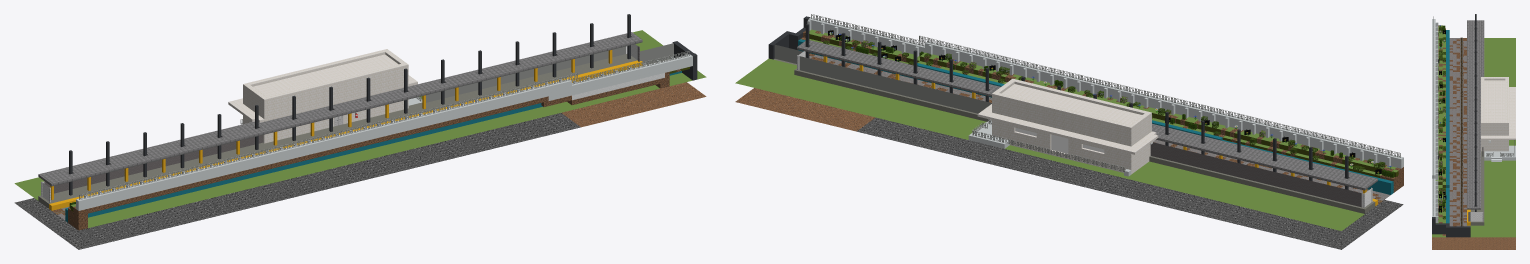
File: Itabira.fbx
3 views of the same model, side by side, from view 1: azimuth 30°, elevation 25°; view 2: azimuth 150°, elevation 25°; view 3: azimuth 270°, elevation 25° (orthographic). The views are drawn at different scales.
Visible parts, largest first — view 1: createdeco_block_palettes_chain_link_fence_industrial_iron_c, createdeco_block_palettes_chain_link_fence_industrial_iron_; view 2: createdeco_block_palettes_chain_link_fence_industrial_iron_c, createdeco_block_palettes_chain_link_fence_industrial_iron_; view 3: createdeco_block_palettes_chain_link_fence_industrial_iron_, createdeco_block_palettes_chain_link_fence_industrial_iron_c.
Part boxes in pixels (<box>): createdeco_block_palettes_chain_link_fence_industrial_iron_c: <box>14,62,390,249</box>; createdeco_block_palettes_chain_link_fence_industrial_iron_: <box>331,14,706,173</box>; createdeco_block_palettes_chain_link_fence_industrial_iron_c: <box>1040,80,1403,249</box>; createdeco_block_palettes_chain_link_fence_industrial_iron_: <box>735,14,1101,176</box>; createdeco_block_palettes_chain_link_fence_industrial_iron_: <box>1432,105,1515,249</box>; createdeco_block_palettes_chain_link_fence_industrial_iron_c: <box>1432,14,1515,136</box>.
Bounding box in the file's own units: 13500 × 1400 × 2400.
Materials: 45 (39 with a texture image).
